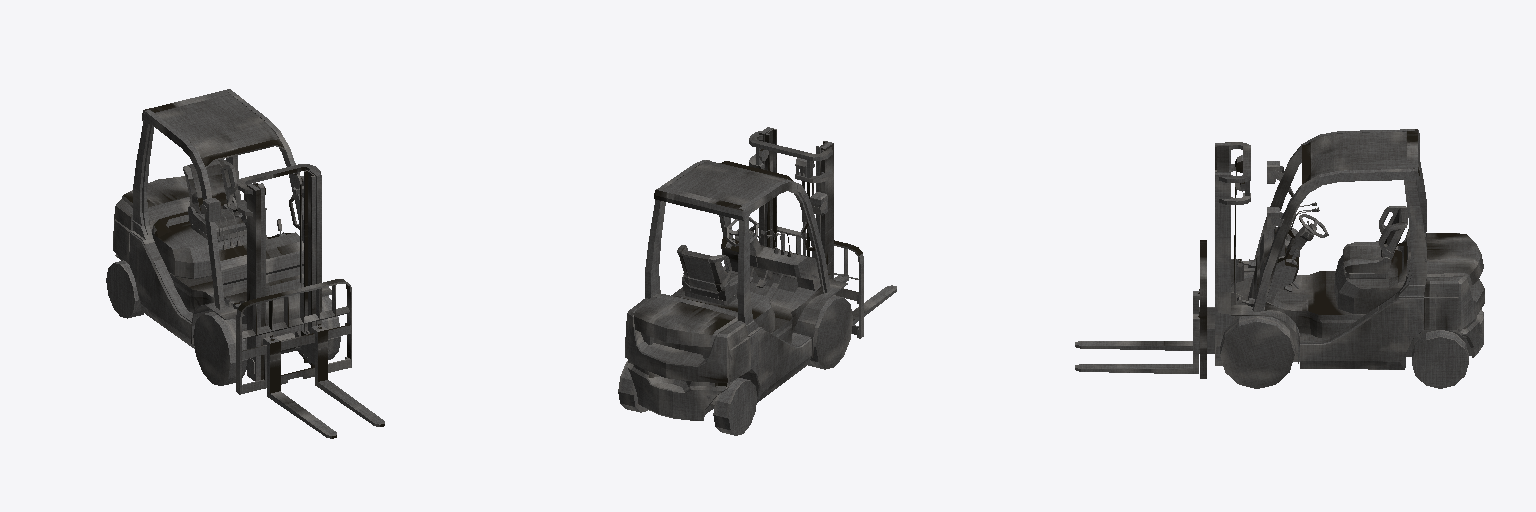
3 views of the same model, side by side, from view 1: azimuth 30°, elevation 25°; view 2: azimuth 150°, elevation 25°; view 3: azimuth 270°, elevation 25° (orthographic).
Visible parts, largest first — view 1: Loader_car_Loader_car_Material_0; view 2: Loader_car_Loader_car_Material_0; view 3: Loader_car_Loader_car_Material_0.
Part boxes in pixels (left/top/right/bottom): Loader_car_Loader_car_Material_0: left=106, top=89, right=384, bottom=438; Loader_car_Loader_car_Material_0: left=618, top=127, right=896, bottom=435; Loader_car_Loader_car_Material_0: left=1075, top=129, right=1484, bottom=388.
Size of the model in its own units: 3.25 by 5.87 by 10.26.
1 materials, 1 textured.